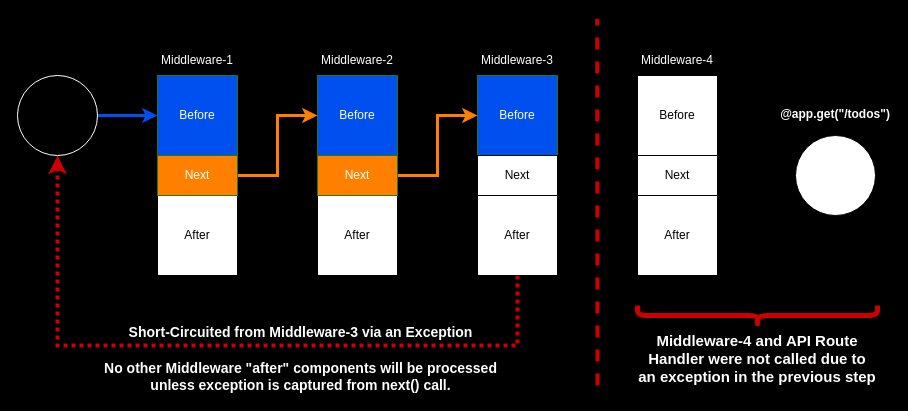
This 908x411 diagram has some shape labels left out. Here are the shapes that lost their labels. From the top down, the centre of each, then its label:
[57,115]: Event Handler
[835,175]: API Route Handler
